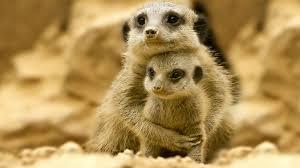Non_Gorille: (93, 0, 242, 160)
